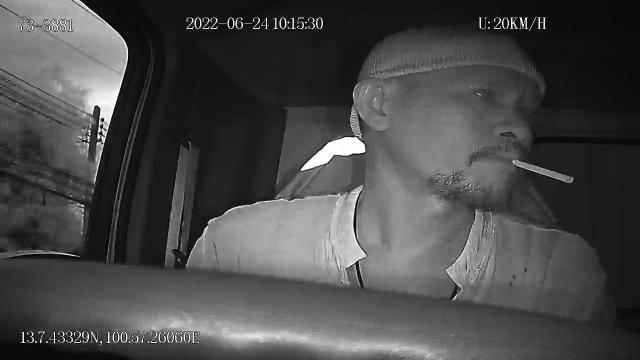SafeDriving: (459, 74, 502, 108)
Smoking: (511, 157, 577, 187)
